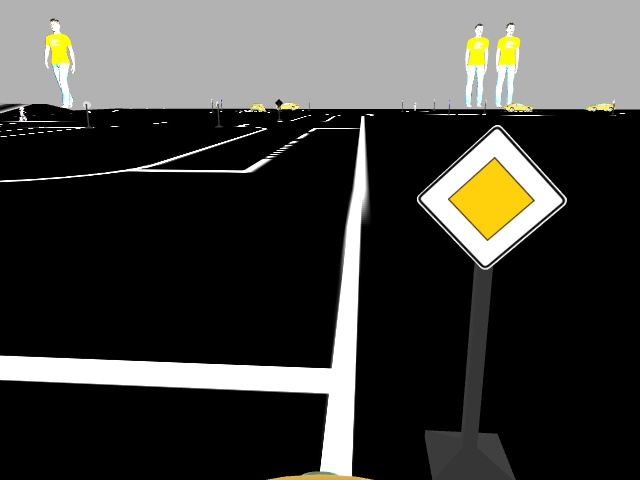Priority: (422, 123, 562, 266)
